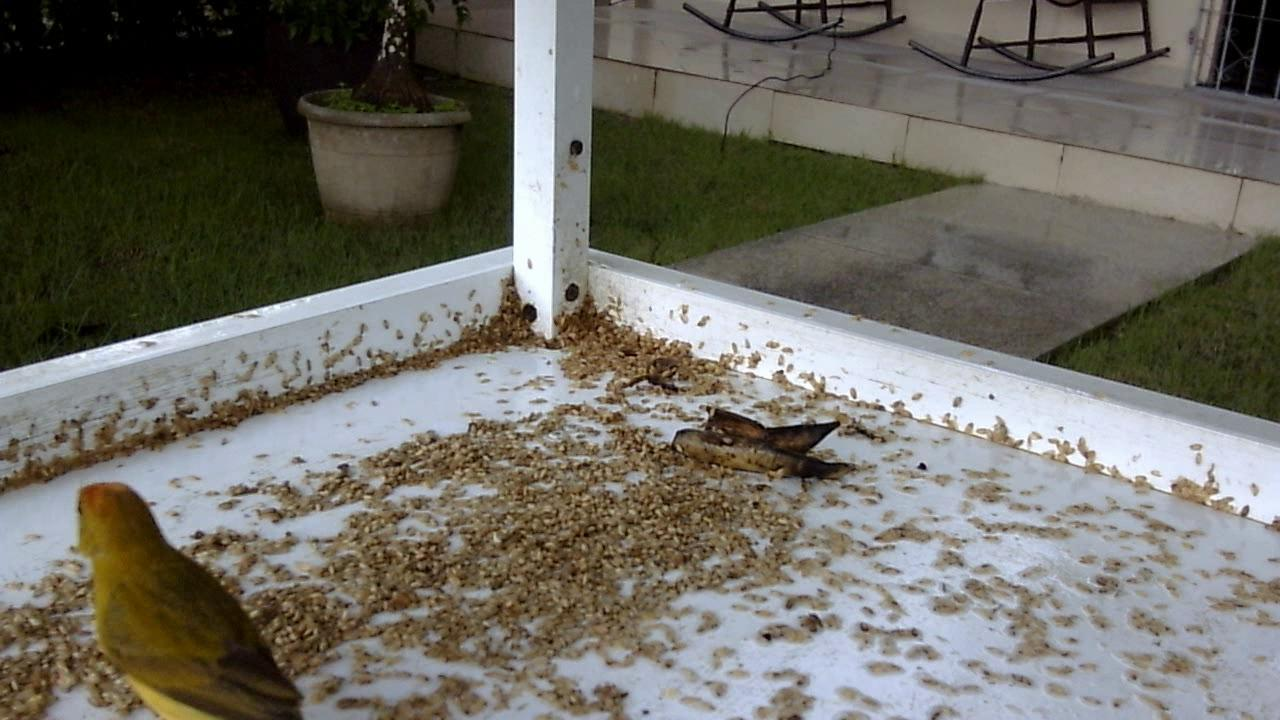canario_do_amazonas: (59, 474, 310, 713)
